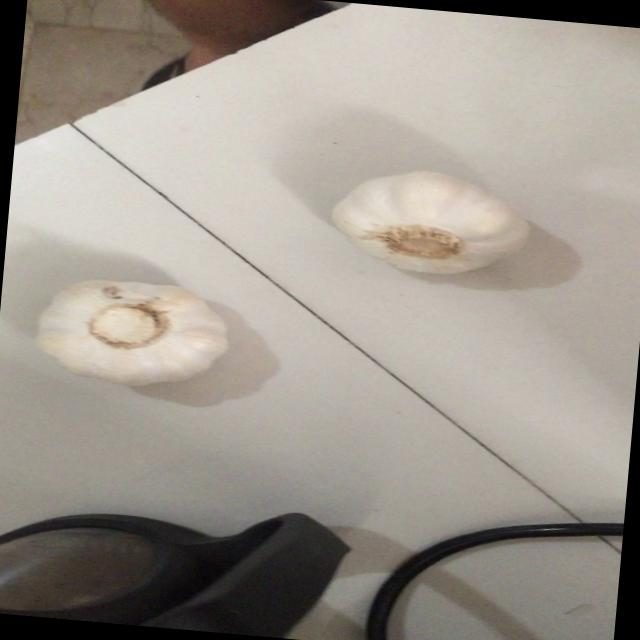bawang: (25, 268, 244, 392), (322, 160, 538, 284)
